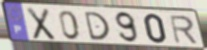0: (143, 13, 168, 45), (58, 10, 81, 41)
9: (114, 11, 140, 45)
D: (83, 11, 112, 41)
R: (168, 15, 200, 46)
X: (26, 7, 57, 42)
